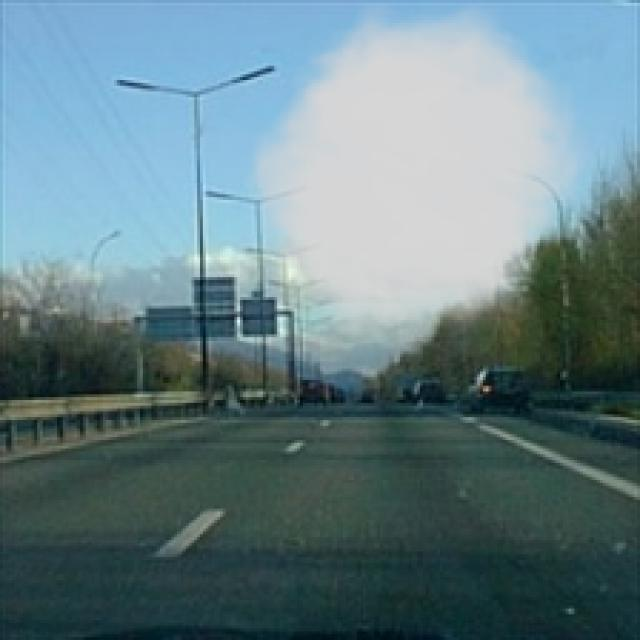Smoke: (234, 2, 597, 348)
